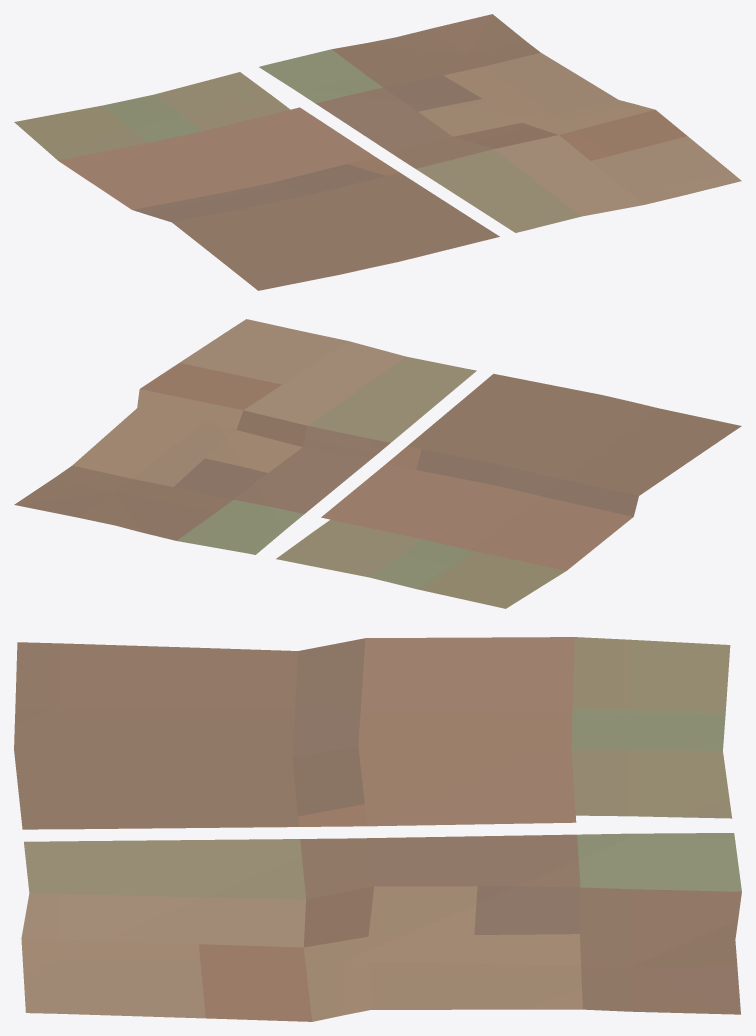
The model's file is farm_6_17_soil.glb.
3 views of the same model, one above another, from view 1: azimuth 30°, elevation 25°; view 2: azimuth 150°, elevation 25°; view 3: azimuth 270°, elevation 25° (orthographic). The views are drawn at different scales.
Visible parts, largest first — view 1: geometry_0; view 2: geometry_0; view 3: geometry_0.
Part boxes in pixels (x1=…): geometry_0: x1=14, y1=14, x2=741, y2=290; geometry_0: x1=14, y1=319, x2=741, y2=608; geometry_0: x1=14, y1=637, x2=741, y2=1021.
Bounding box in the file's own units: 246 × 7.77 × 204.
